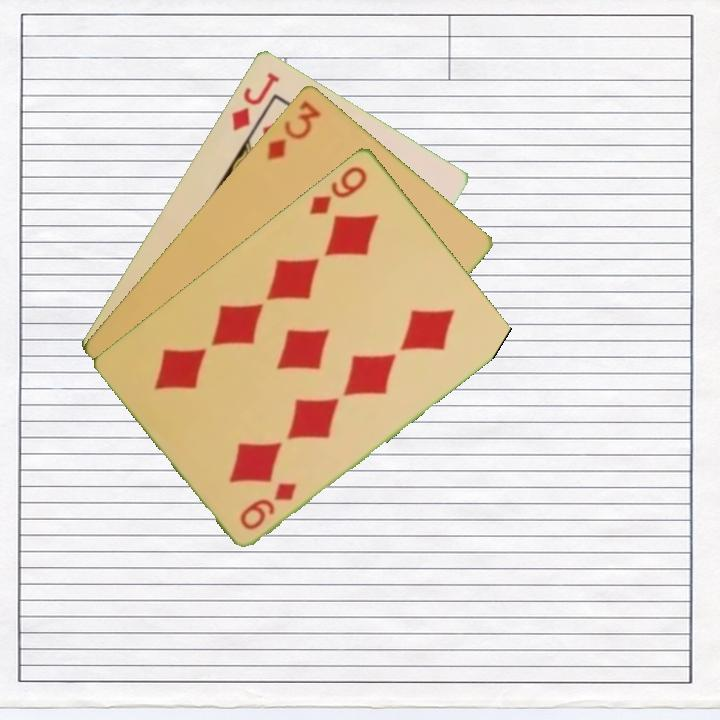3d: (263, 96, 324, 163)
9d: (305, 162, 370, 218), (236, 478, 300, 533)
Jd: (227, 68, 283, 134)
